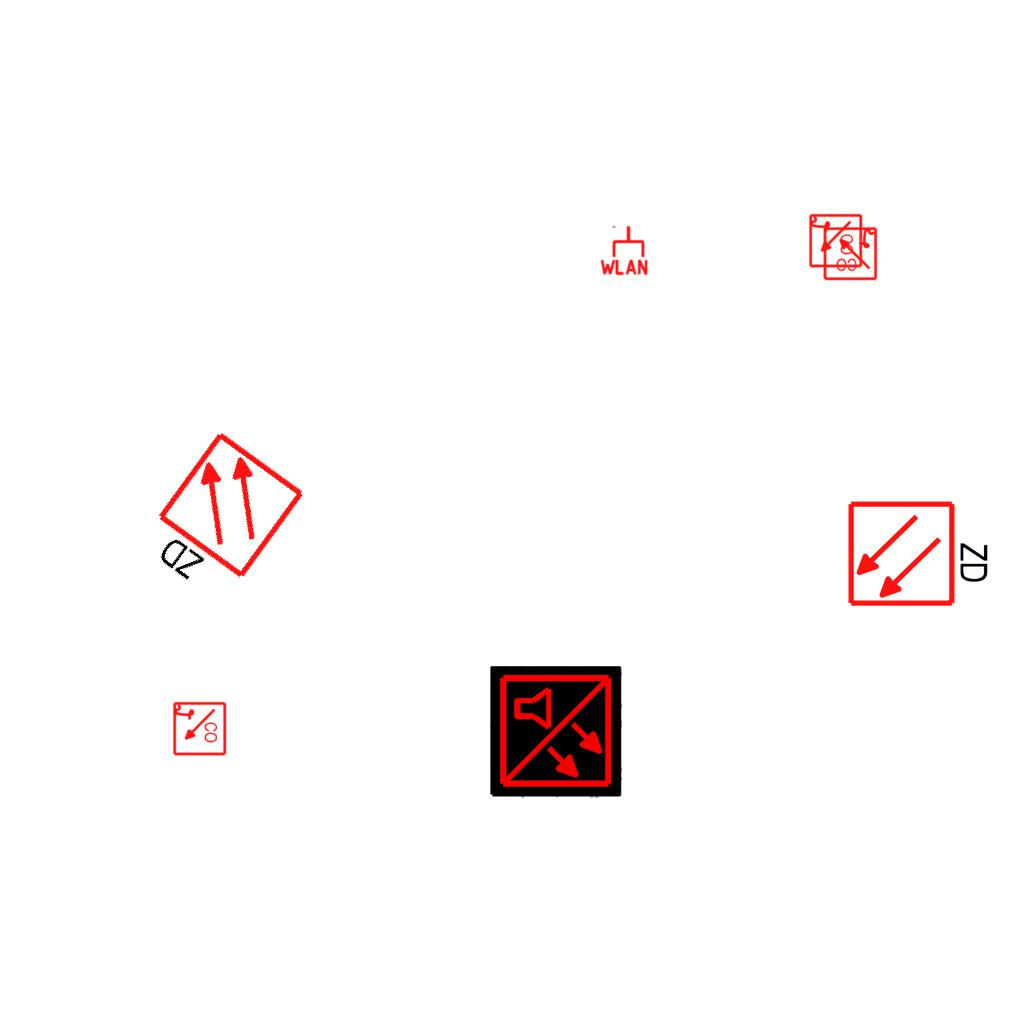OKW_Multisensormelder_(Kombination_optischer_Rauch-Kahlenmonoxid_Waerme-Melder): (490, 666, 622, 798)
ROA_Rauchmelder_optisch_mit_Signalgeber_(Sockelsirene): (807, 213, 863, 269), (171, 701, 227, 757), (822, 225, 878, 281)
WLAN: (597, 223, 651, 277)
ZD_Melder_in_Zwischendecke_mit_Revisionsoeffnung_mind_40_x_40_cm: (131, 427, 311, 616), (846, 495, 995, 609)
